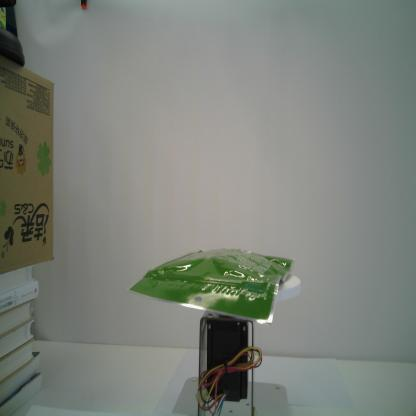Dried Fruit: (123, 242, 297, 330)
